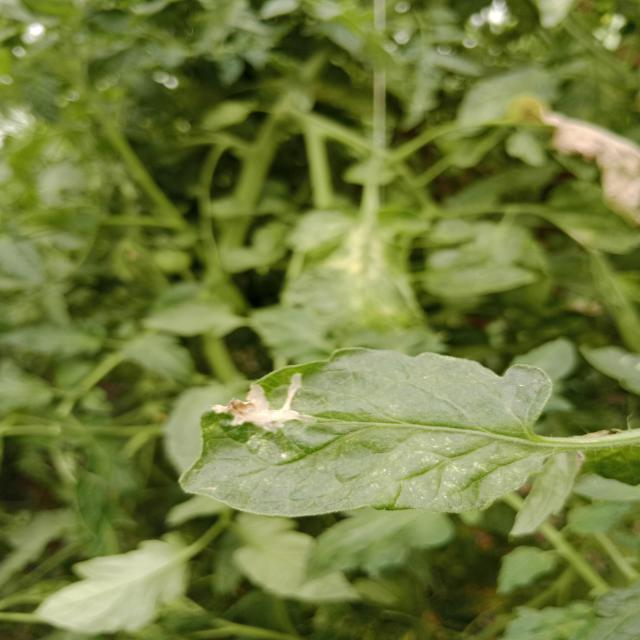Tuta absoluta: (210, 373, 313, 444)
